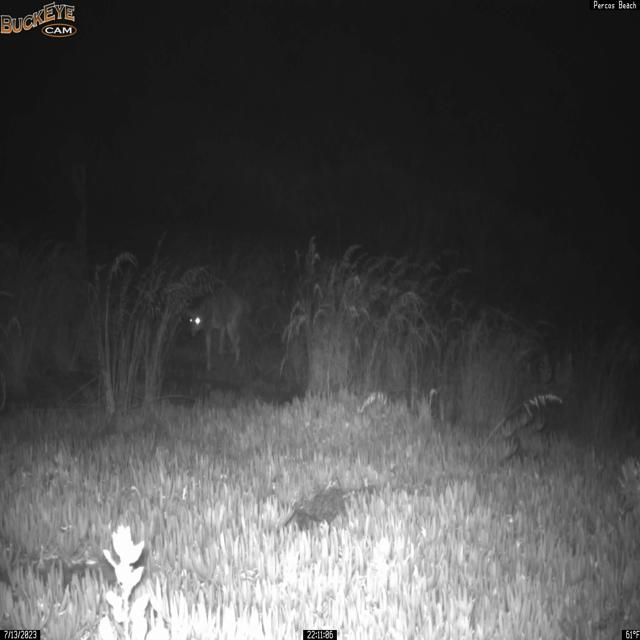coyote: (183, 286, 252, 372)
